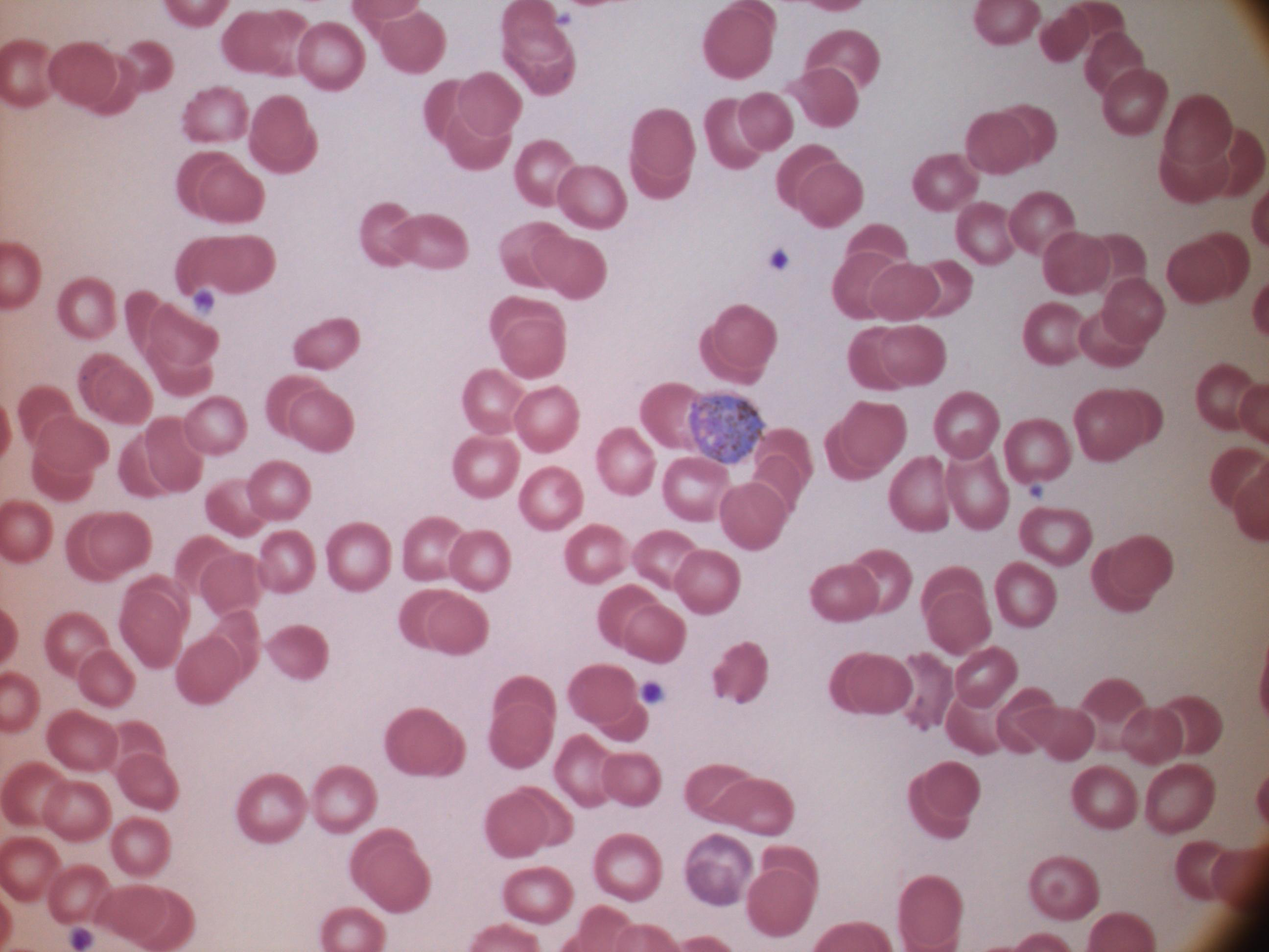Infected: (688, 385, 766, 467)
Uninfected: (503, 222, 609, 305), (685, 764, 794, 841), (138, 299, 224, 388), (598, 583, 687, 664), (1087, 535, 1175, 615), (267, 375, 356, 454), (1072, 386, 1162, 464), (500, 0, 576, 92), (348, 827, 430, 912), (29, 410, 111, 495), (92, 882, 193, 951), (177, 149, 267, 226), (489, 296, 571, 380), (118, 575, 192, 668), (175, 234, 274, 302), (173, 625, 255, 707), (822, 399, 905, 480), (398, 587, 491, 658), (487, 675, 558, 767), (65, 510, 151, 585), (920, 567, 994, 654), (567, 662, 648, 741), (1164, 232, 1249, 307), (964, 104, 1052, 176), (698, 303, 777, 383), (483, 786, 569, 859), (246, 92, 321, 175), (628, 110, 699, 197), (1006, 697, 1096, 764), (907, 762, 983, 841), (48, 41, 129, 115), (221, 9, 306, 79), (78, 353, 156, 429), (384, 707, 466, 779), (1161, 93, 1237, 170), (449, 71, 524, 149), (701, 0, 776, 78), (458, 358, 526, 443), (744, 857, 814, 939), (1092, 275, 1167, 351), (826, 651, 913, 716), (140, 415, 209, 494), (717, 478, 791, 551), (832, 247, 904, 322), (897, 873, 965, 951), (944, 453, 1010, 532), (887, 455, 953, 533), (235, 774, 308, 844), (1041, 230, 1116, 298), (371, 9, 447, 76), (385, 213, 471, 272), (193, 547, 265, 617), (684, 834, 754, 906), (785, 64, 861, 130), (792, 159, 864, 228), (46, 708, 119, 776), (1144, 763, 1214, 833), (296, 22, 367, 91), (873, 323, 947, 389), (593, 833, 662, 903), (932, 389, 1001, 459), (1158, 142, 1233, 206), (44, 612, 112, 682), (703, 97, 769, 169), (41, 777, 113, 843), (1002, 417, 1071, 485), (672, 549, 741, 617), (951, 645, 1020, 713), (511, 385, 579, 453), (660, 455, 728, 523), (1101, 67, 1169, 135), (448, 439, 520, 503), (1017, 505, 1091, 567), (805, 28, 879, 90), (808, 562, 883, 623), (325, 522, 392, 590), (310, 765, 377, 833), (1070, 764, 1138, 831), (1081, 678, 1149, 745), (556, 164, 625, 230), (1029, 855, 1098, 921), (553, 735, 617, 806), (639, 381, 703, 451), (993, 560, 1059, 627), (1006, 191, 1073, 257), (501, 865, 574, 925), (245, 459, 313, 523), (448, 529, 514, 594), (402, 516, 465, 584), (514, 137, 575, 207), (1209, 447, 1268, 519), (1118, 703, 1185, 766), (595, 428, 656, 497), (115, 750, 179, 815), (563, 523, 629, 586), (512, 464, 579, 526), (109, 815, 173, 879), (2, 762, 63, 829), (1195, 363, 1255, 431), (180, 84, 249, 143), (1022, 301, 1085, 365), (631, 529, 697, 590), (258, 529, 320, 593), (76, 647, 138, 710), (57, 276, 119, 339), (184, 396, 248, 457), (912, 154, 977, 214), (855, 549, 915, 614), (754, 428, 814, 493), (0, 836, 59, 902), (1085, 33, 1151, 92), (204, 477, 265, 539), (1039, 2, 1104, 60), (293, 316, 361, 371), (944, 695, 1005, 756), (1163, 695, 1223, 757), (17, 383, 79, 443), (954, 200, 1013, 263), (47, 863, 106, 925), (599, 751, 661, 809), (264, 624, 328, 680), (735, 91, 793, 152), (0, 39, 52, 107), (360, 202, 416, 265), (0, 500, 52, 565), (712, 642, 766, 703), (564, 904, 632, 952), (1221, 129, 1266, 199), (1206, 846, 1259, 902), (1175, 841, 1226, 899), (975, 0, 1041, 44), (0, 241, 42, 309), (923, 259, 974, 314), (124, 40, 174, 94), (0, 671, 41, 731)
